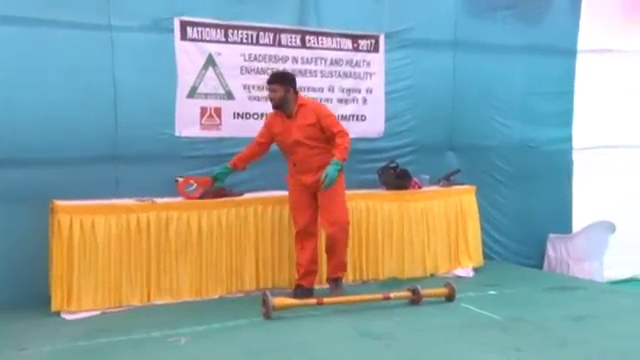helmet_off: (263, 71, 298, 109)
person: (231, 72, 354, 304)
